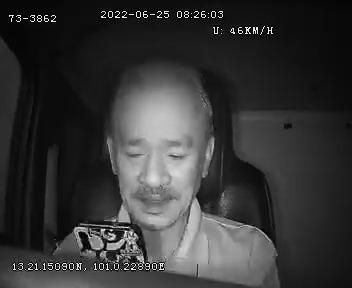PhoneUse: (64, 217, 156, 278)
